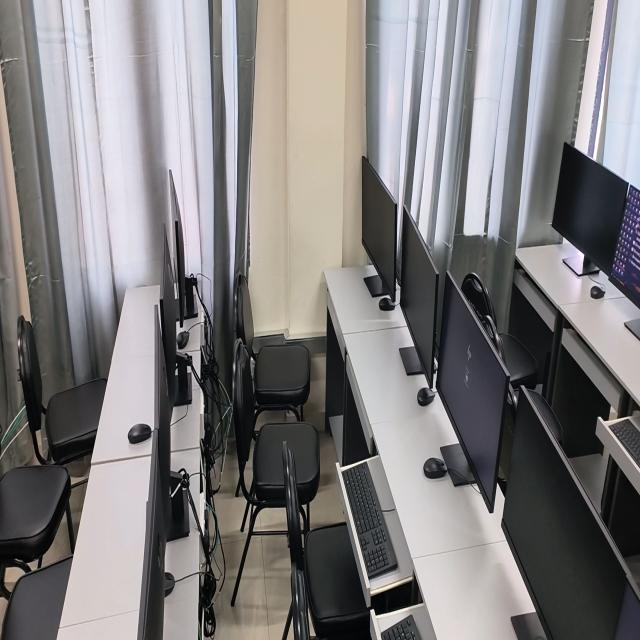Chair: (283, 440, 372, 635), (233, 338, 320, 532), (18, 316, 106, 466), (235, 273, 311, 421), (461, 271, 541, 380), (0, 466, 71, 564), (2, 559, 72, 639), (480, 312, 514, 386), (520, 385, 563, 439), (498, 386, 516, 494), (291, 562, 309, 639)
Keyboard: (342, 462, 397, 578), (609, 419, 640, 466), (381, 615, 421, 639)
Monitor: (501, 389, 627, 639), (436, 279, 512, 513), (552, 143, 628, 276), (155, 305, 190, 541), (399, 206, 439, 388), (137, 418, 165, 639), (160, 230, 191, 405), (362, 156, 397, 301), (169, 170, 197, 327), (611, 185, 640, 308), (614, 583, 640, 639), (624, 319, 640, 340)
Mouse: (128, 423, 152, 444), (424, 457, 447, 478), (417, 388, 435, 406), (164, 573, 175, 596), (177, 330, 189, 351), (379, 296, 395, 310), (591, 285, 605, 299)
